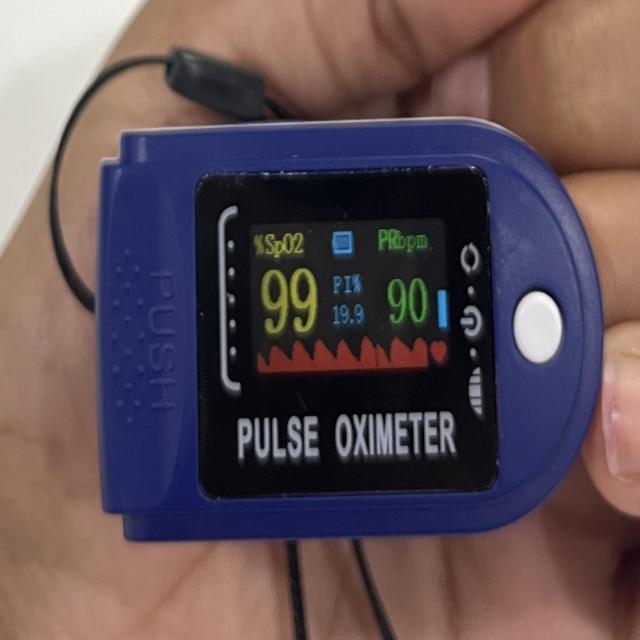spo2: (89, 118, 604, 546)
